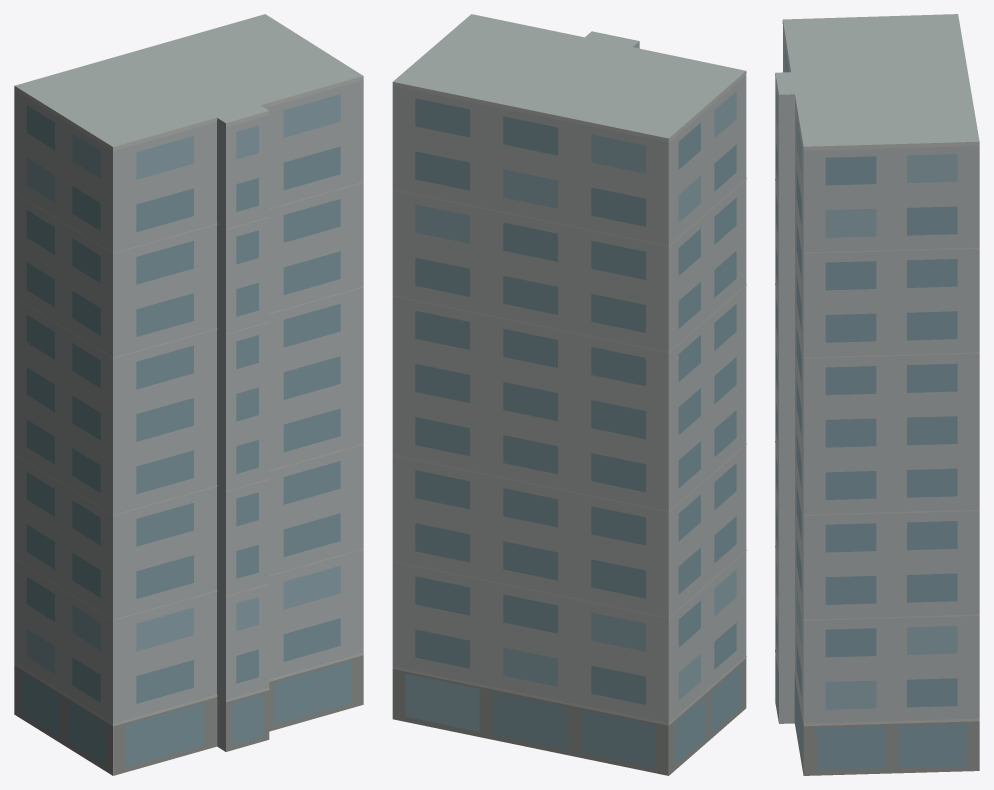
File: survey-upis-32955411.glb
3 views of the same model, side by side, from view 1: azimuth 30°, elevation 25°; view 2: azimuth 150°, elevation 25°; view 3: azimuth 270°, elevation 25° (orthographic).
Visible parts, largest first — view 1: survey-upis-32955411.tmp; view 2: survey-upis-32955411.tmp; view 3: survey-upis-32955411.tmp.
Part boxes in pixels (left/top/right/bottom): survey-upis-32955411.tmp: left=14, top=14, right=363, bottom=775; survey-upis-32955411.tmp: left=392, top=14, right=746, bottom=775; survey-upis-32955411.tmp: left=775, top=14, right=979, bottom=775.
Bounding box in the file's own units: 16.81 × 37.1 × 10.95.
